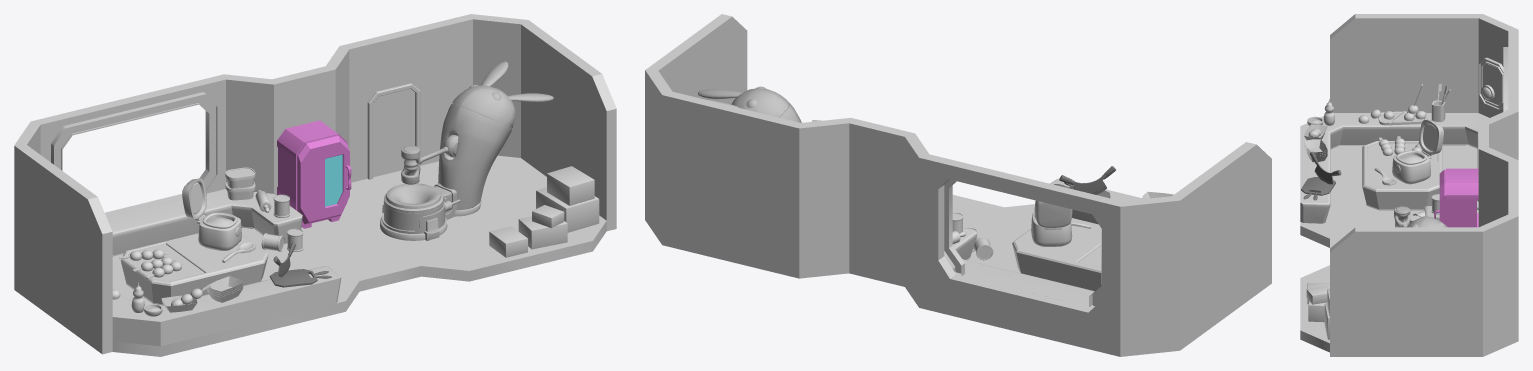
File: cuisine_build_finale_mais_pas_finie.fbx
The picture shows the model from 3 angles, left to right: view 1: azimuth 30°, elevation 25°; view 2: azimuth 150°, elevation 25°; view 3: azimuth 270°, elevation 25°; orthographic projection. The views are drawn at different scales.
Parts seen in each view (by area): view 1: SM_Kitchen_Wall007, SM_Kitchen_Floor013, SM_Countertop008, SM_RobotBunny004, SM_Fridge_Part010, SM_CardBoardBoxes, SM_Station_RiceCooker, SM_IceCream013, SM_Station_Toppings, SM_Station_Grill, SM_RobotHammer004, SM_Station_CuttingBoard_weird001; view 2: SM_Kitchen_Wall007, SM_Countertop008, SM_Kitchen_Floor013, SM_RobotBunny004, SM_Station_RiceCooker, SM_IceCream013, SM_Station_CuttingBoard_weird001; view 3: SM_Kitchen_Wall007, SM_Countertop008, SM_Kitchen_Floor013, SM_Fridge_Part010, SM_Station_RiceCooker, SM_Station_Skewers001, SM_Button_Pannel, SM_Station_Toppings, SM_CardBoardBoxes, SM_Station_Grill, SM_Station_CuttingBoard_weird001, SM_RobotHammer004 (+2 smaller).
Part boxes in pixels (left/top/right/bottom): SM_Kitchen_Wall007: left=14, top=14, right=616, bottom=354; SM_Kitchen_Floor013: left=112, top=155, right=606, bottom=356; SM_Countertop008: left=107, top=189, right=341, bottom=346; SM_RobotBunny004: left=380, top=61, right=553, bottom=240; SM_Fridge_Part010: left=277, top=120, right=351, bottom=228; SM_CardBoardBoxes: left=489, top=166, right=599, bottom=257; SM_Station_RiceCooker: left=182, top=178, right=255, bottom=262; SM_IceCream013: left=225, top=167, right=303, bottom=251; SM_Station_Toppings: left=131, top=276, right=243, bottom=316; SM_Station_Grill: left=119, top=244, right=204, bottom=281; SM_RobotHammer004: left=401, top=135, right=458, bottom=184; SM_Station_CuttingBoard_weird001: left=269, top=242, right=331, bottom=287; SM_Kitchen_Wall007: left=645, top=14, right=1271, bottom=356; SM_Countertop008: left=952, top=178, right=1142, bottom=307; SM_Kitchen_Floor013: left=952, top=195, right=1034, bottom=272; SM_RobotBunny004: left=698, top=86, right=801, bottom=122; SM_Station_RiceCooker: left=1031, top=200, right=1090, bottom=246; SM_IceCream013: left=952, top=212, right=993, bottom=260; SM_Station_CuttingBoard_weird001: left=1054, top=166, right=1115, bottom=198; SM_Kitchen_Wall007: left=1330, top=14, right=1518, bottom=356; SM_Countertop008: left=1300, top=113, right=1488, bottom=223; SM_Kitchen_Floor013: left=1300, top=145, right=1477, bottom=352; SM_Fridge_Part010: left=1434, top=168, right=1478, bottom=227; SM_Station_RiceCooker: left=1374, top=120, right=1443, bottom=185; SM_Station_Skewers001: left=1358, top=84, right=1450, bottom=125; SM_Button_Pannel: left=1478, top=57, right=1503, bottom=109; SM_Station_Toppings: left=1304, top=99, right=1334, bottom=162; SM_CardBoardBoxes: left=1306, top=283, right=1329, bottom=339; SM_Station_Grill: left=1367, top=136, right=1437, bottom=161; SM_Station_CuttingBoard_weird001: left=1301, top=151, right=1341, bottom=200; SM_RobotHammer004: left=1394, top=206, right=1410, bottom=227.
Bounding box in the file's own units: 580 × 246 × 156.
